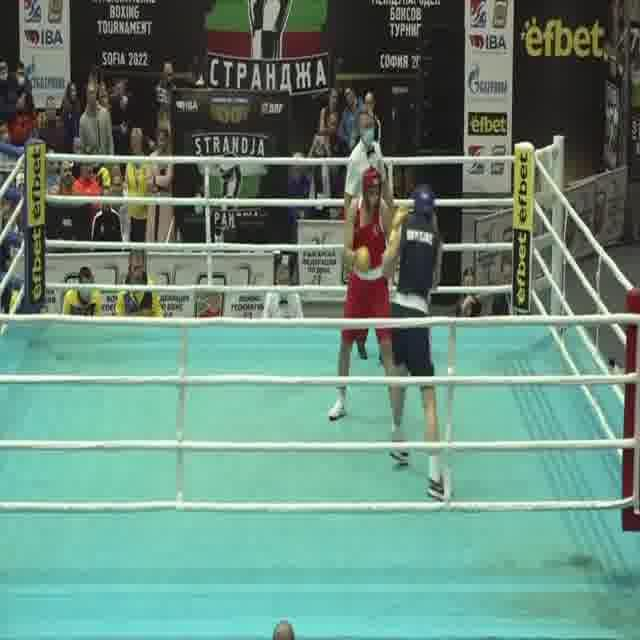blue-player: (380, 185, 452, 504)
red-player: (326, 164, 403, 437)
referee: (338, 108, 398, 365)
